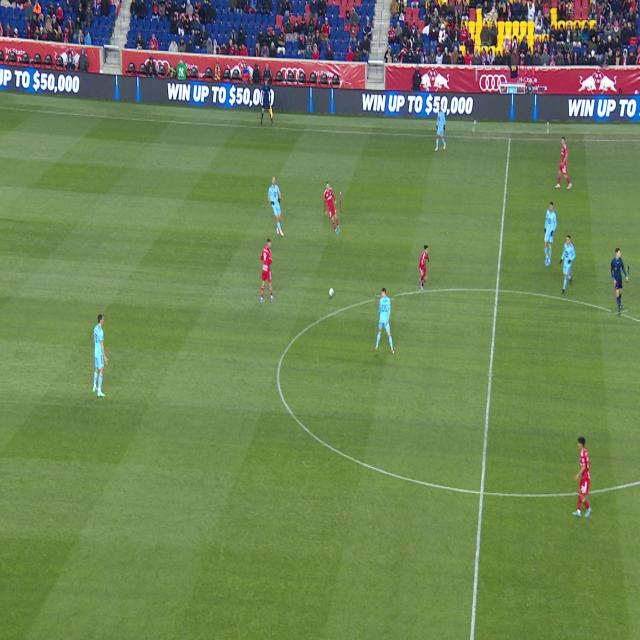football: (329, 288, 334, 297)
player: (573, 438, 592, 516), (93, 315, 108, 396), (376, 289, 394, 354), (268, 177, 284, 236), (560, 236, 576, 293), (260, 238, 274, 302), (555, 137, 572, 188), (544, 202, 557, 265), (325, 182, 340, 234), (435, 104, 446, 151), (419, 245, 429, 291)
referee: (611, 249, 628, 314)
